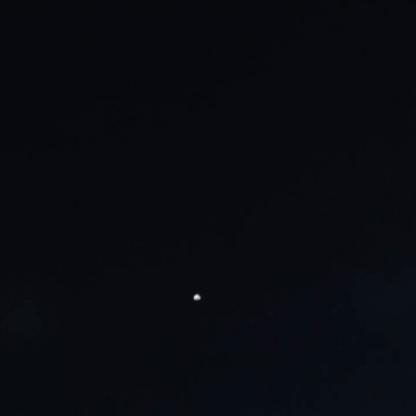ball: (186, 291, 207, 302)
